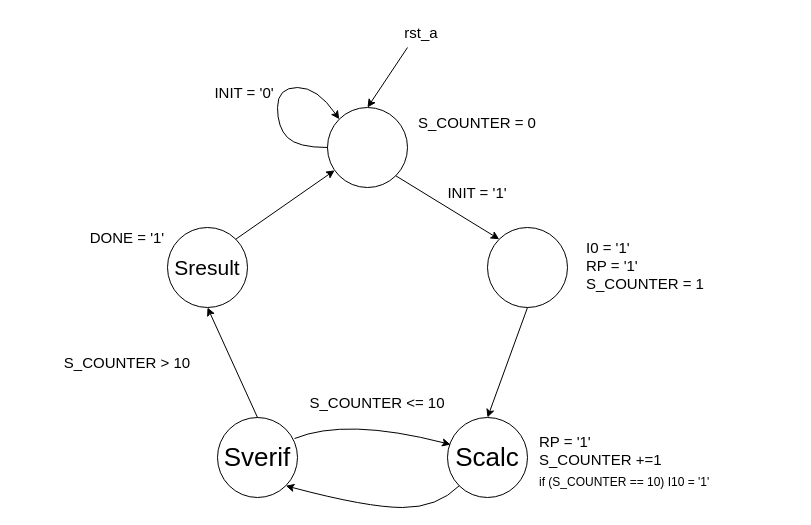
Some shapes in this 811 by 525 pixel diagram are drawn without their labels. The centre of each missing label's shape, as x and y in pixels:
S0: (367,147)
S1: (527,267)
